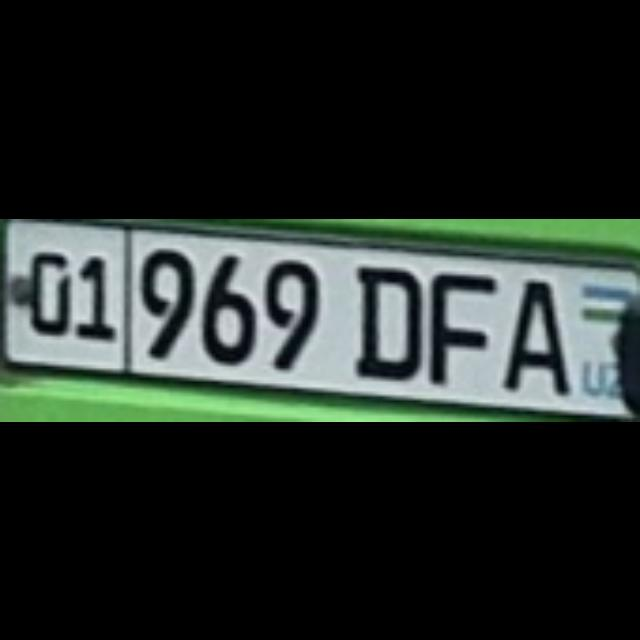0: (22, 245, 64, 328)
1: (72, 252, 112, 334)
6: (196, 248, 252, 358)
9: (136, 240, 188, 354), (260, 252, 312, 364)
A: (501, 274, 569, 388)
D: (350, 260, 414, 372)
F: (425, 266, 489, 379)
